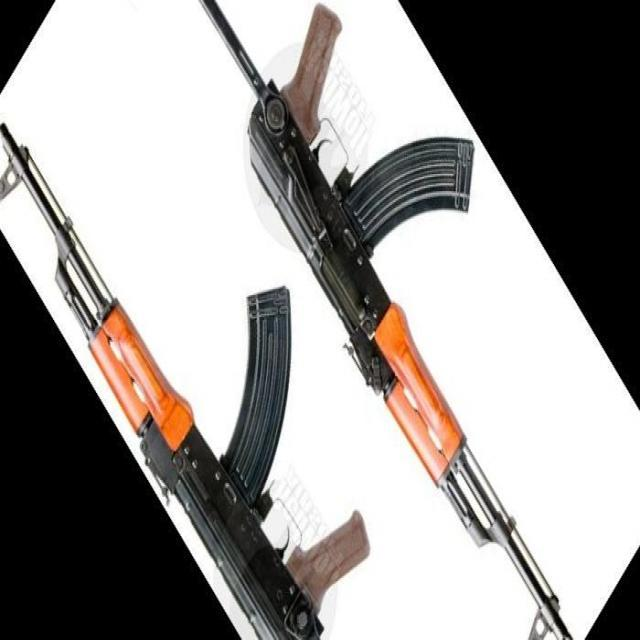weapon: (198, 0, 576, 640), (0, 122, 370, 638)
